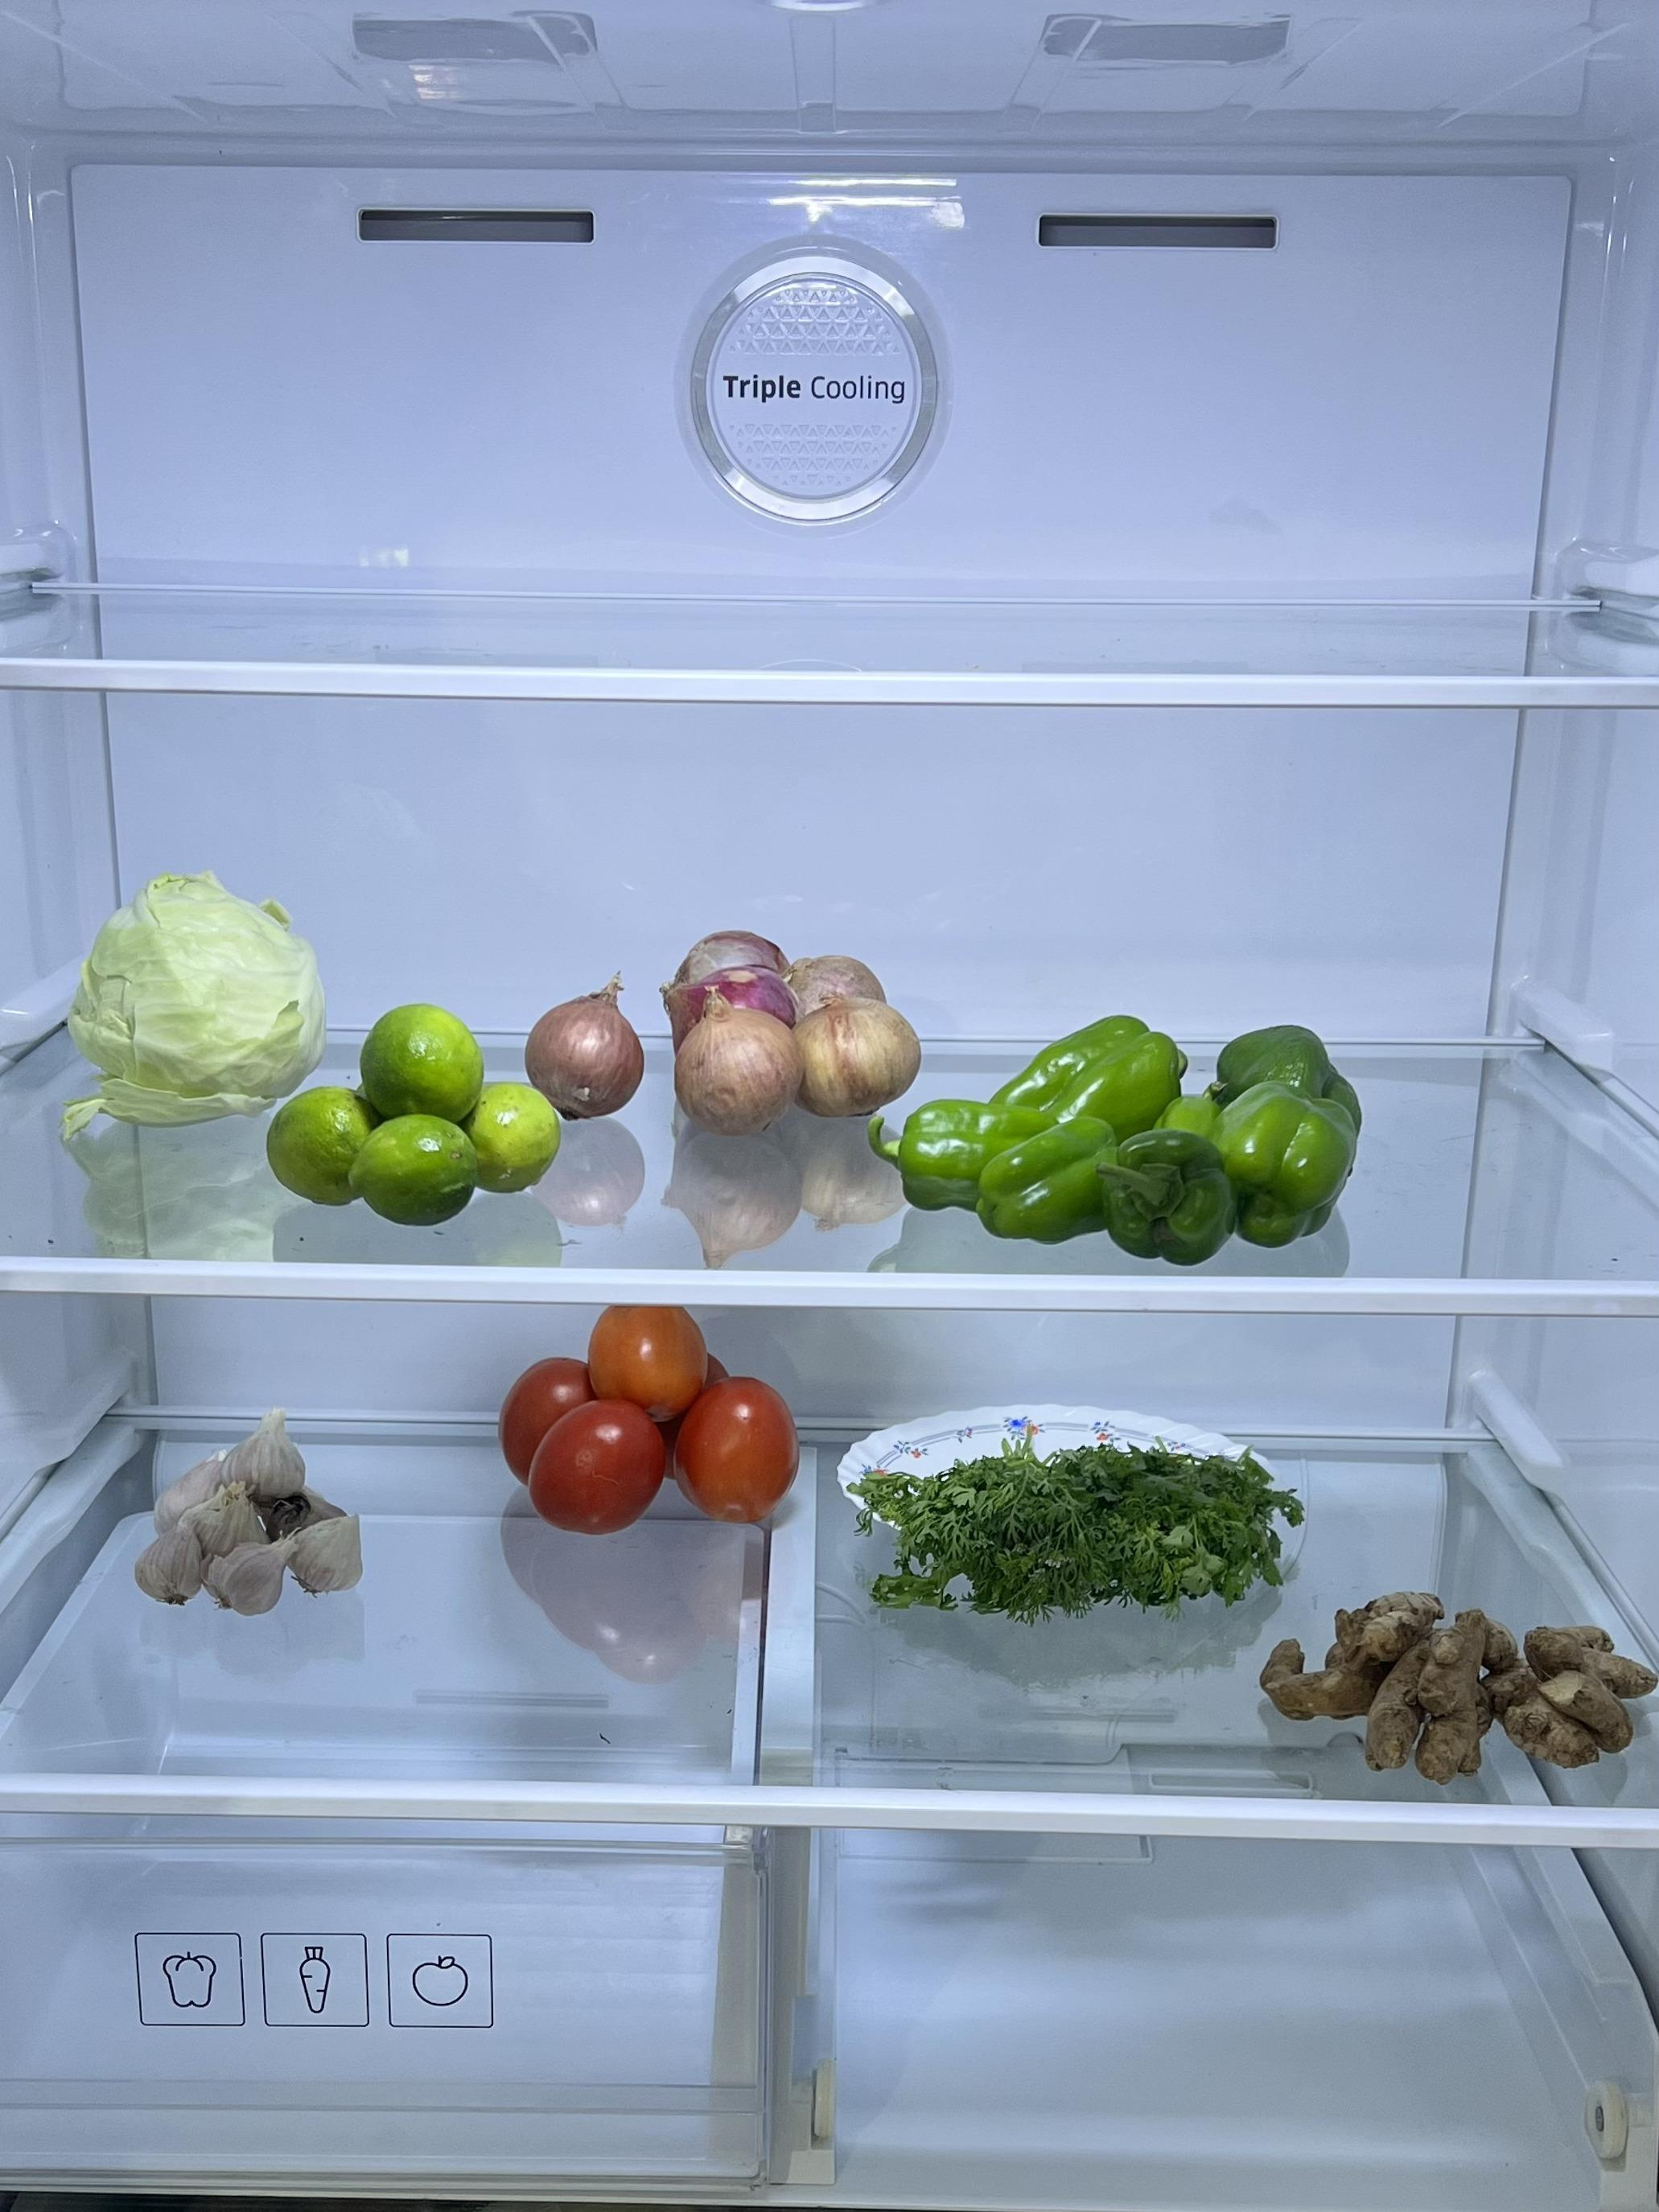cabbage: (70, 850, 321, 1116)
capsicum: (878, 1019, 1391, 1251)
coriander: (838, 1416, 1302, 1625)
garlic: (122, 1418, 371, 1622)
ginger: (1244, 1585, 1652, 1785)
lemon: (263, 1001, 565, 1223)
onion: (528, 930, 922, 1109)
tomato: (479, 1296, 809, 1534)
